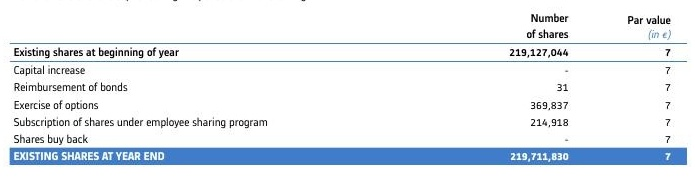table: (0, 0, 695, 180)
